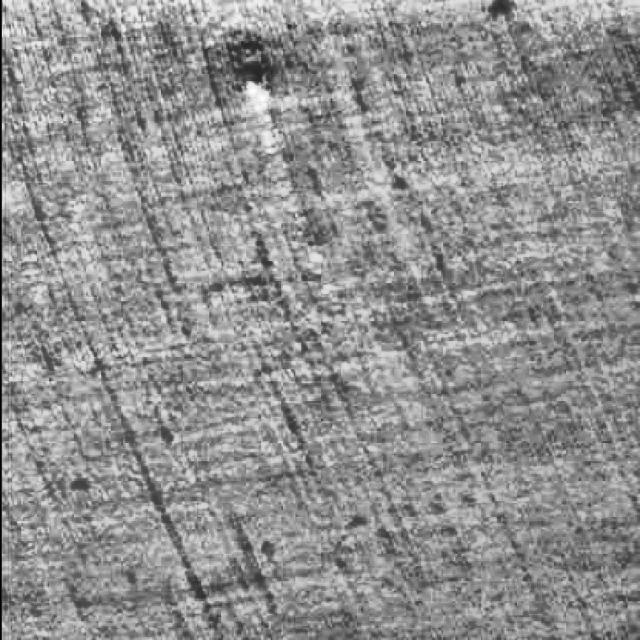thread_error: (229, 63, 357, 322)
